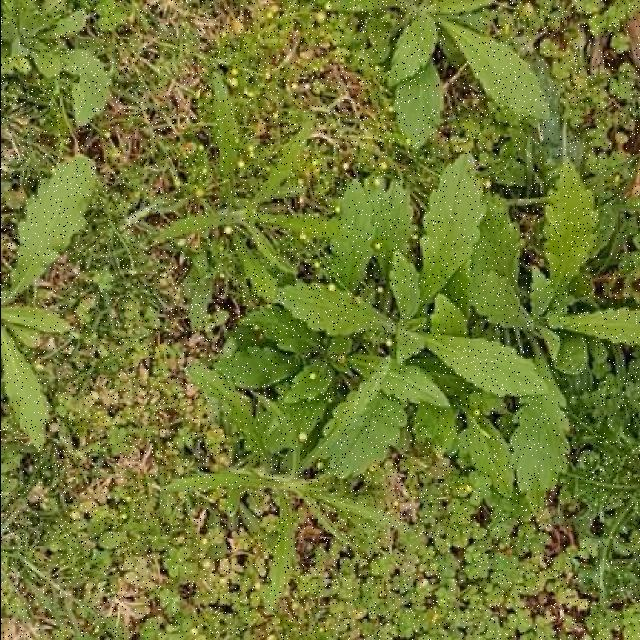weed: (153, 74, 640, 525), (332, 0, 546, 146), (0, 154, 94, 449), (0, 0, 109, 125)
